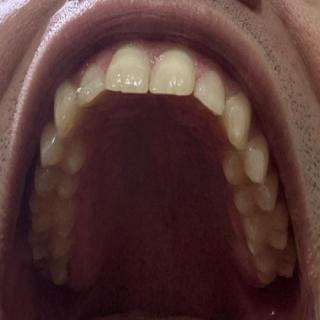UL1BC_healthy: (221, 134, 269, 185)
UL1M_healthy: (243, 206, 288, 253)
UL2BC_healthy: (232, 171, 278, 214)
UL2M_healthy: (255, 248, 296, 285)
ULCI_healthy: (151, 49, 195, 95)
ULC_healthy: (224, 91, 251, 150)
ULLI_healthy: (195, 70, 226, 116)
UR1BC_healthy: (40, 122, 84, 175)
UR1M_healthy: (28, 193, 76, 238)
UR2BC_healthy: (34, 164, 79, 200)
UR2M_healthy: (29, 233, 72, 258)
UR3M_sdecay: (32, 257, 71, 286)
URCI_healthy: (106, 46, 150, 94)
URC_healthy: (54, 80, 83, 137)
URLI_healthy: (77, 64, 106, 106)
